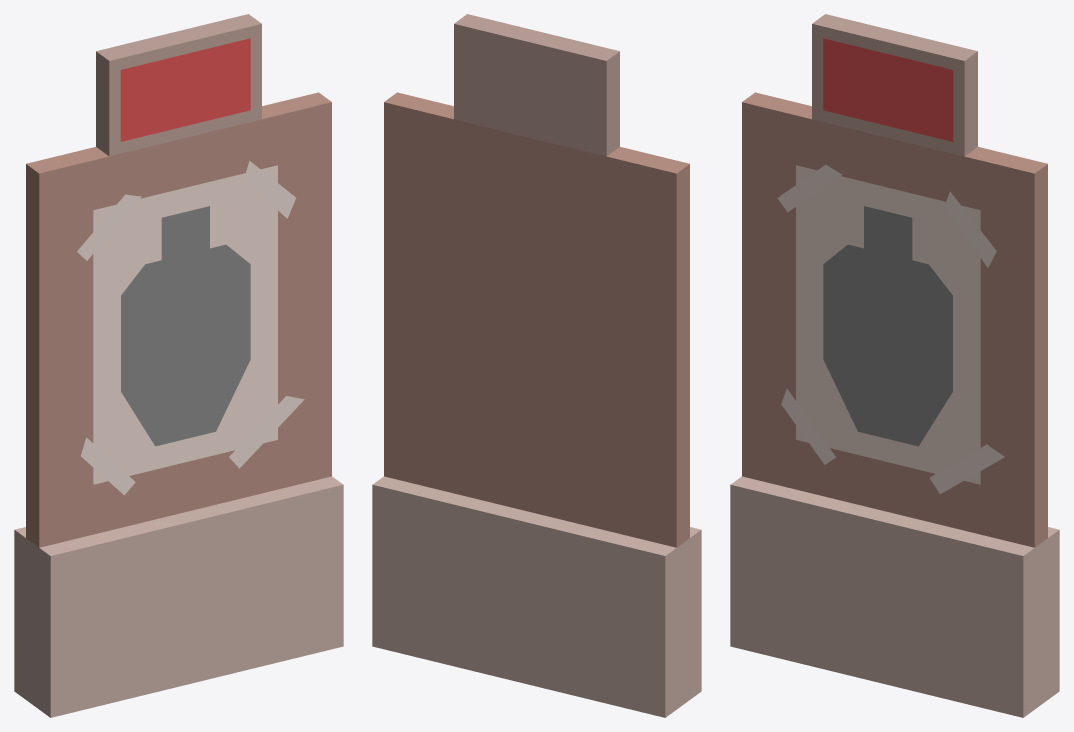
Rendered from Target_002.glb.
3 renders of one model, left to right at view 1: azimuth 30°, elevation 25°; view 2: azimuth 150°, elevation 25°; view 3: azimuth 330°, elevation 25°, orthographic.
Visible parts, largest first — view 1: Target_002; view 2: Target_002; view 3: Target_002.
Part boxes in pixels (left/top/right/bottom): Target_002: left=14, top=14, right=343, bottom=717; Target_002: left=372, top=14, right=701, bottom=717; Target_002: left=730, top=14, right=1059, bottom=717.
Size of the model in its own units: 1.35 by 2.77 by 0.2876.
1 material, 1 textured.
